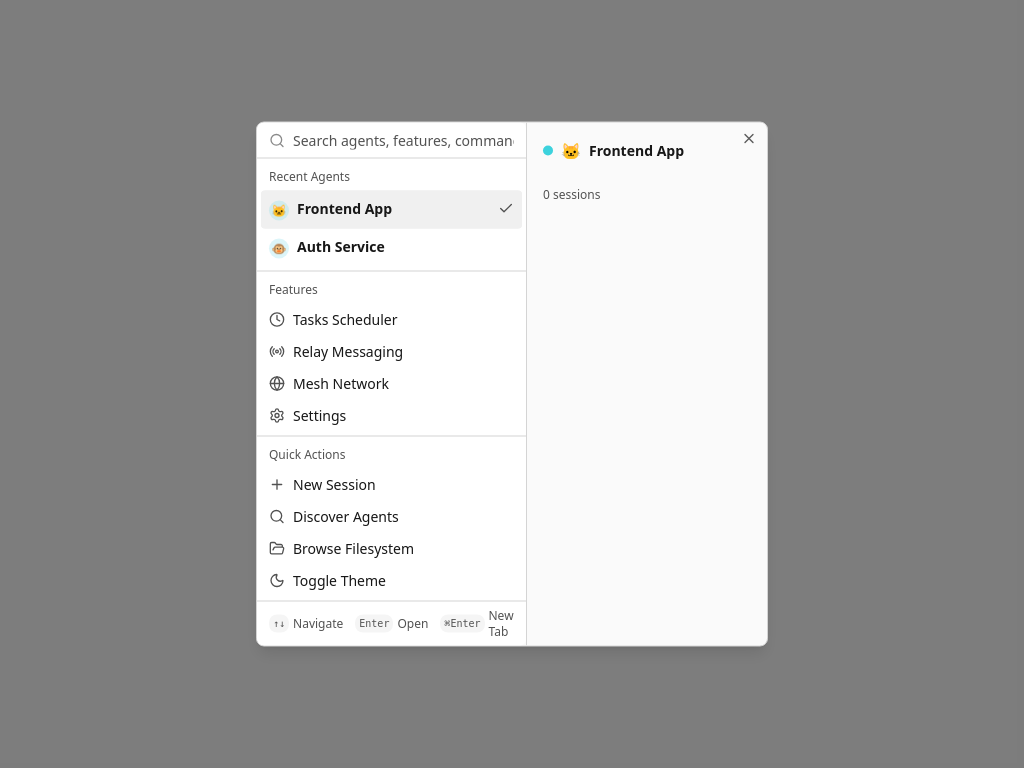
Scenario: Command Palette Integration › @ followed by agent name still shows All Agents group
In the dropdown with placeholder "Search agents, features, commands...": (404, 140) [293,120,514,160], type "@auth"
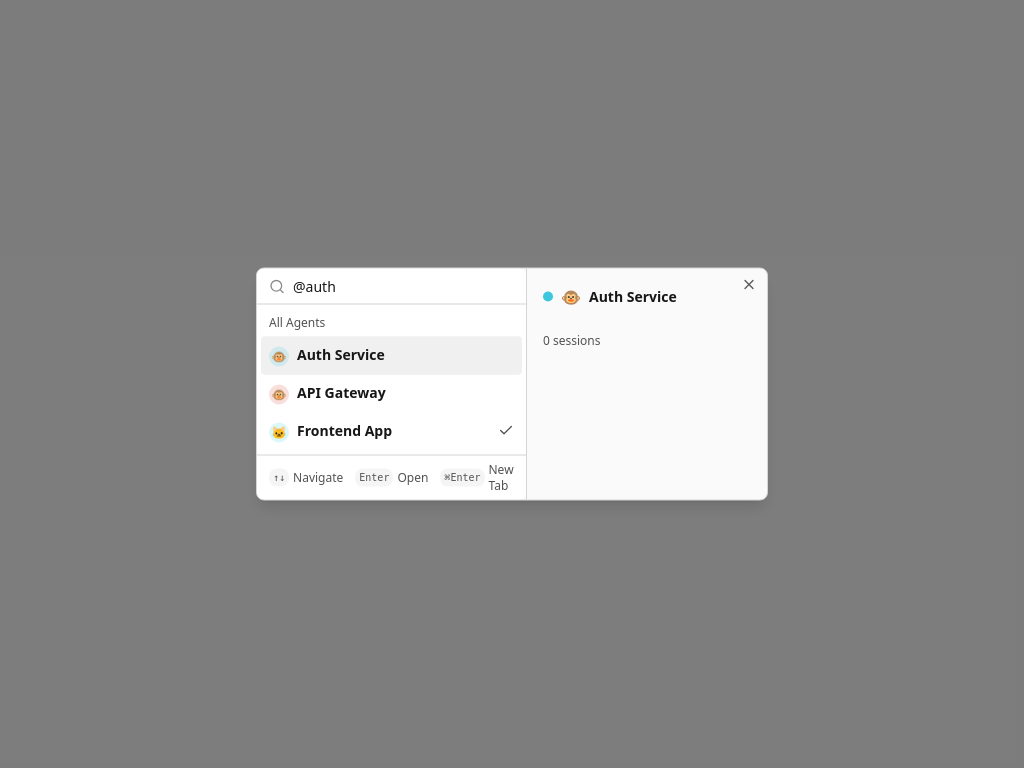
Now the text "All Agents" is shown, box [269,314,325,330]
Now the text "Features" is gone
